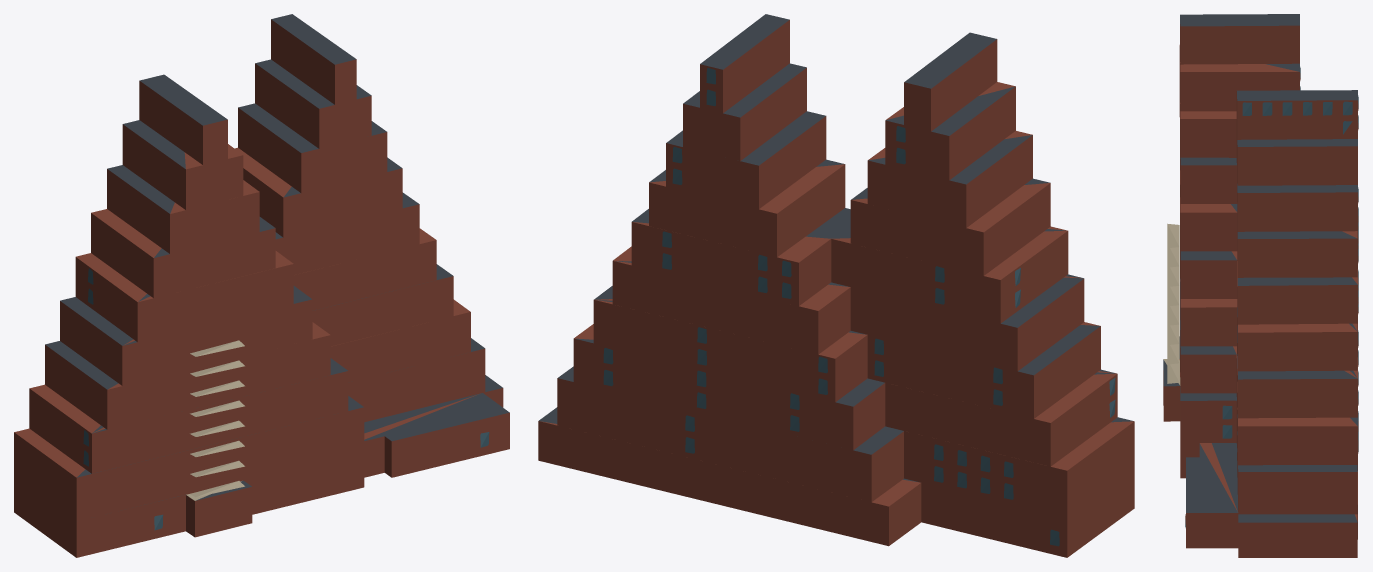
File: de-piramides.lod2.glb
3 renders of one model, left to right at view 1: azimuth 30°, elevation 25°; view 2: azimuth 150°, elevation 25°; view 3: azimuth 270°, elevation 25°, orthographic. The views are drawn at different scales.
Parts seen in each view (by area): view 1: lod2; view 2: lod2; view 3: lod2.
Part boxes in pixels (x1,y1,x2,y2): lod2: [14, 14, 509, 557]; lod2: [538, 14, 1134, 557]; lod2: [1163, 14, 1358, 557].
Bounding box in the file's own units: 65.57 × 55.01 × 25.14.
